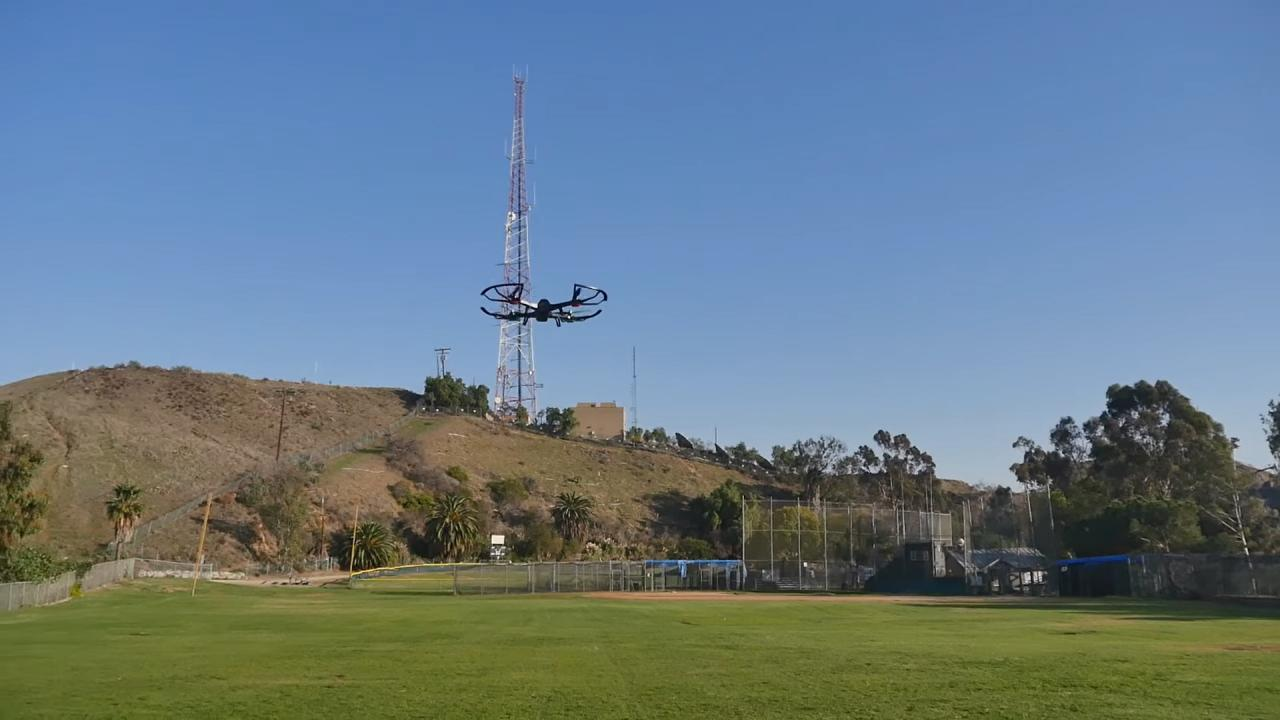Drone: (466, 273, 620, 338)
